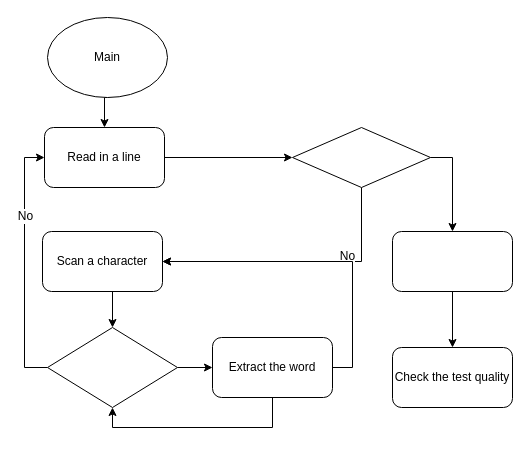
The diagram is 530 pixels wide and 453 high, and some of its shapes have lost their labels. The shapes that lost their labels are listed below. From the top down, each one's centre as x and y in pixels, then its label:
At [361,157]: "Is empty?".
At [452,261]: "Count assertions".
At [112,367]: "Character in buffer".
